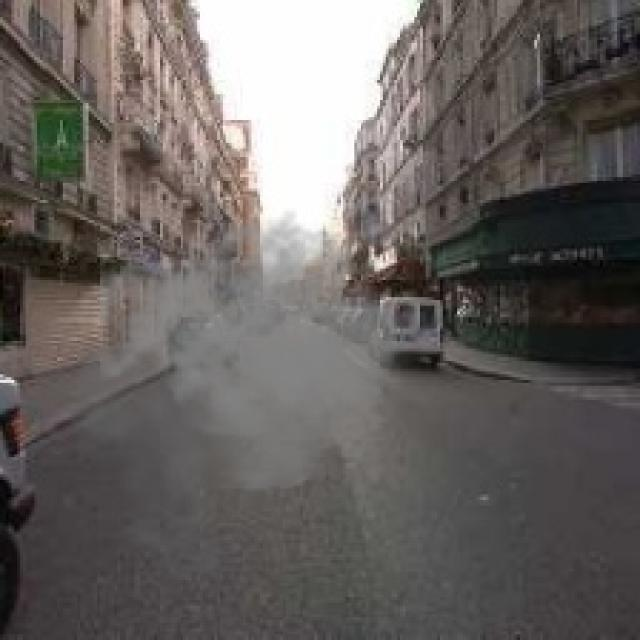smoke: (54, 208, 426, 592)
